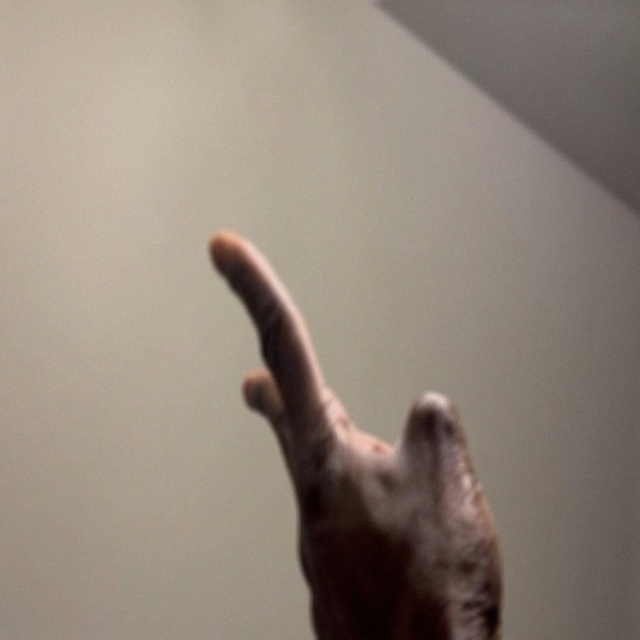Scissors: (185, 228, 524, 640)
